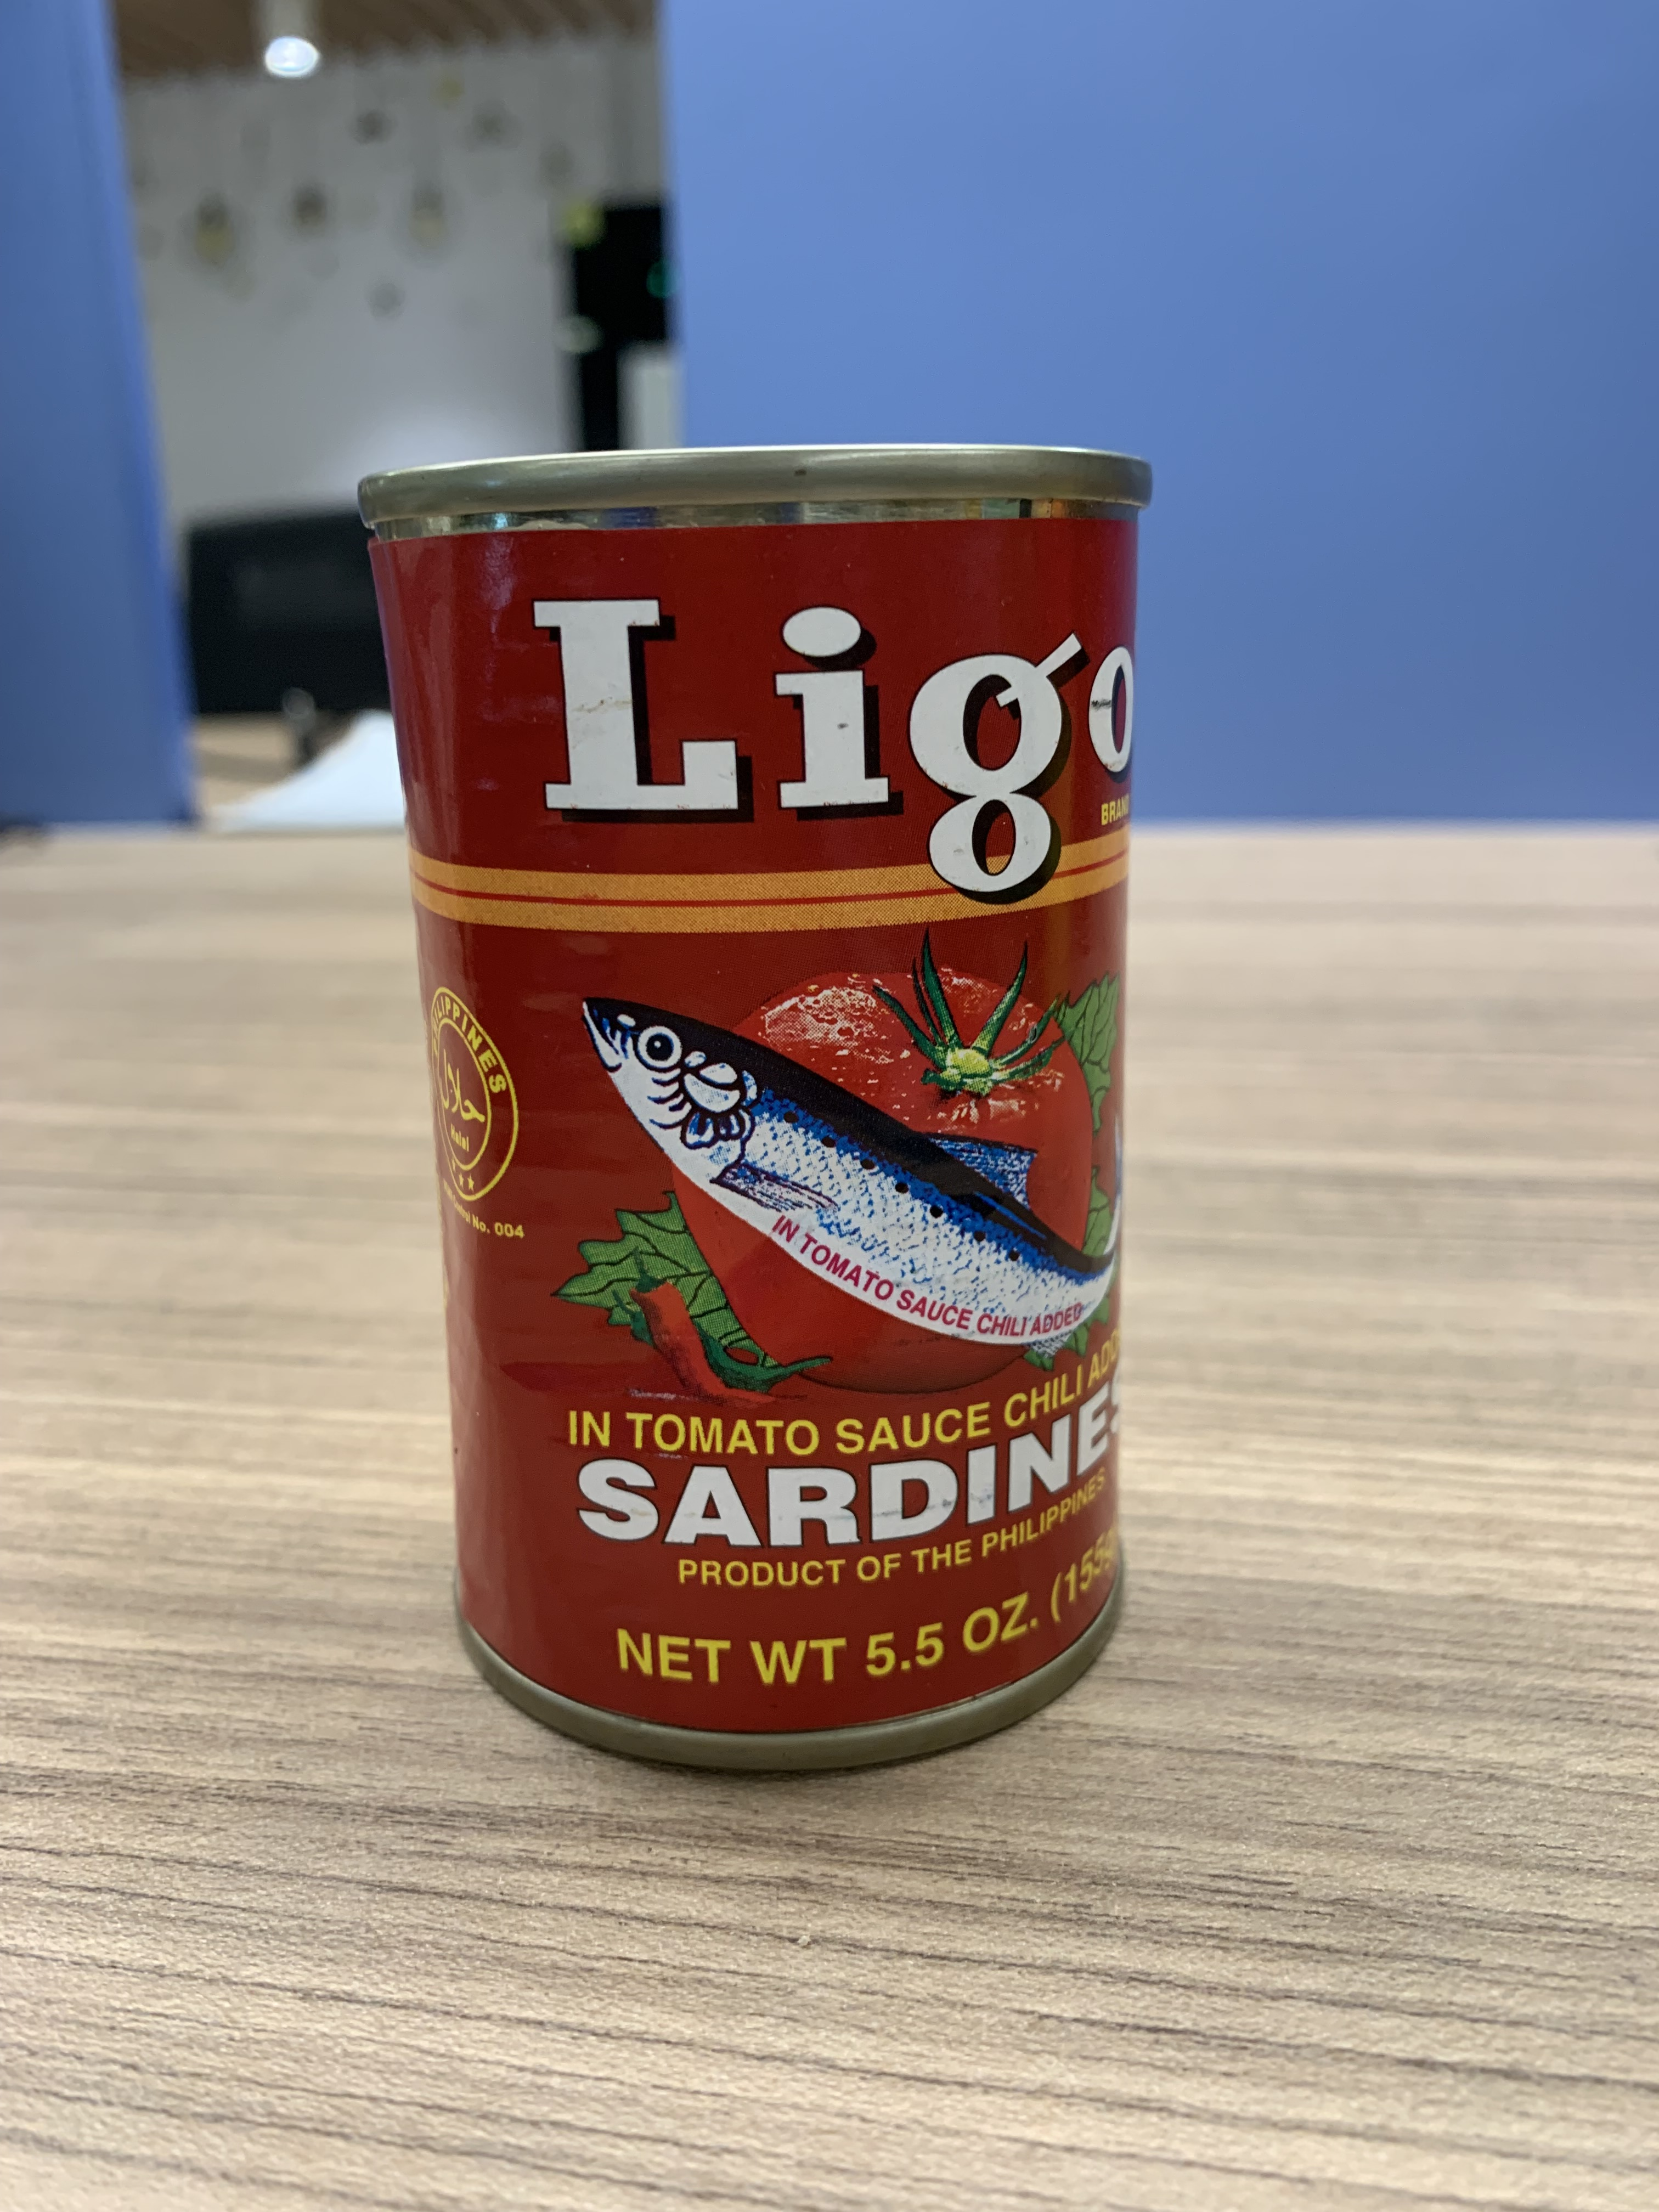sardines_100g-199g: (423, 536, 1150, 1712)
